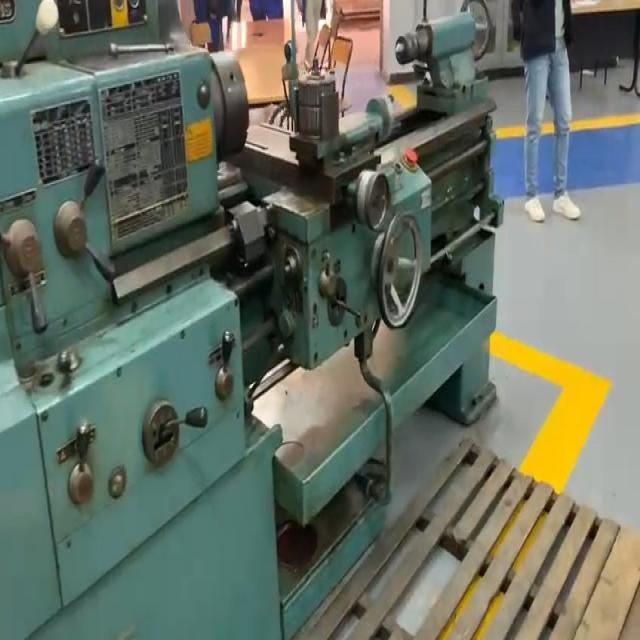tour parallele: (0, 0, 505, 640)
